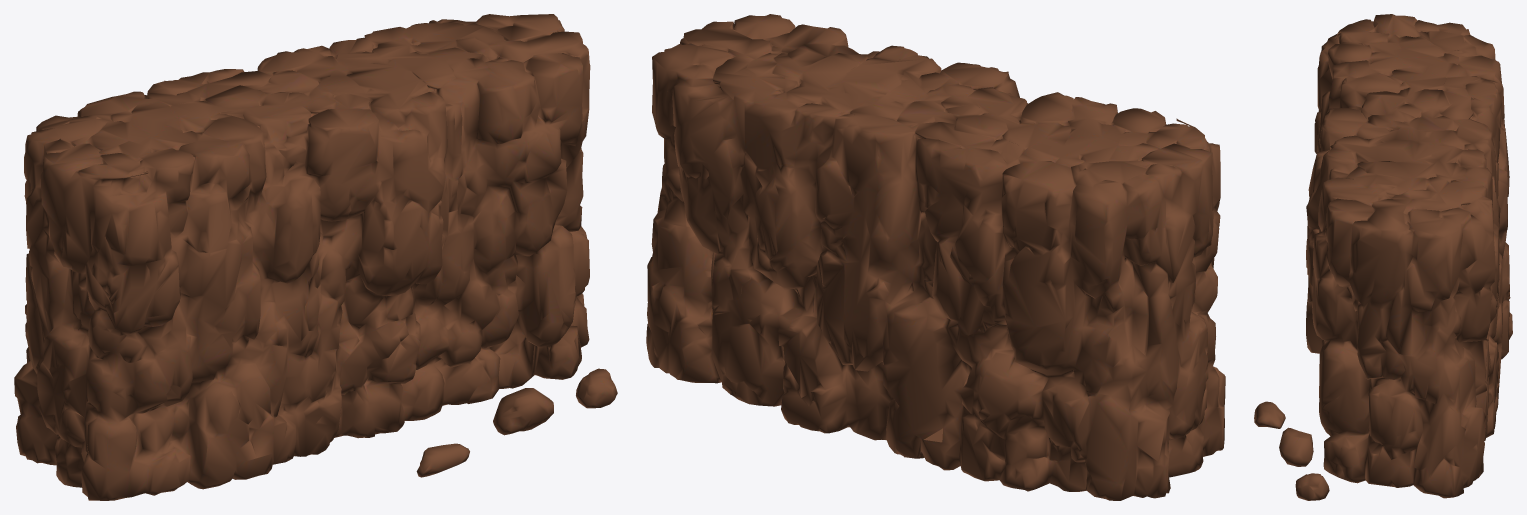
File: roca_de_lava_agrietada.glb
3 renders of one model, left to right at view 1: azimuth 30°, elevation 25°; view 2: azimuth 150°, elevation 25°; view 3: azimuth 270°, elevation 25°, orthographic. The views are drawn at different scales.
Visible parts, largest first — view 1: roca_de_lava_agrietada; view 2: roca_de_lava_agrietada; view 3: roca_de_lava_agrietada.
Boxes of the visible parts, x1=… form: roca_de_lava_agrietada: x1=14, y1=14, x2=617, y2=500; roca_de_lava_agrietada: x1=646, y1=14, x2=1225, y2=500; roca_de_lava_agrietada: x1=1254, y1=14, x2=1512, y2=500.
Size of what is drawn, in the model's own units: 3.36 by 2 by 1.63.
1 material, 1 textured.
